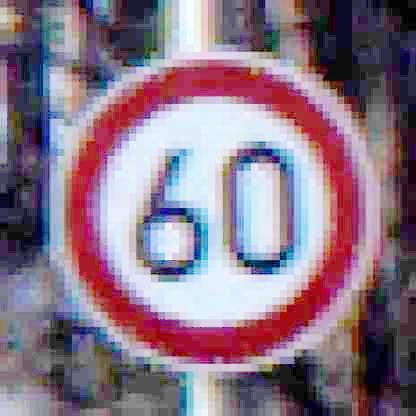Speed Limit -60-: (51, 50, 377, 376)
